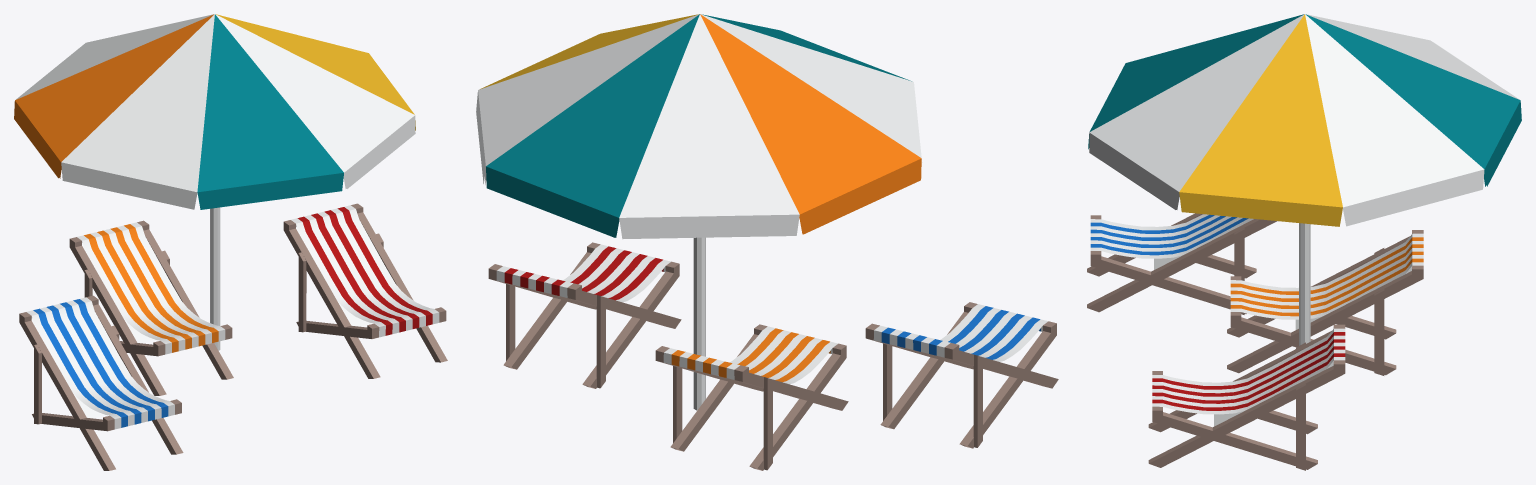
File: M_yizi02.FBX
3 renders of one model, left to right at view 1: azimuth 30°, elevation 25°; view 2: azimuth 150°, elevation 25°; view 3: azimuth 270°, elevation 25°, orthographic. The views are drawn at different scales.
Visible parts, largest first — view 1: M_yizi02_buliao01, M_yizi02_ganzi01; view 2: M_yizi02_buliao01, M_yizi02_ganzi01; view 3: M_yizi02_buliao01, M_yizi02_ganzi01.
Part boxes in pixels (box(x1,y1,x2,y2)): M_yizi02_buliao01: box(14, 14, 447, 470); M_yizi02_ganzi01: box(210, 207, 220, 350); M_yizi02_buliao01: box(476, 14, 1058, 470); M_yizi02_ganzi01: box(693, 237, 705, 410); M_yizi02_buliao01: box(1087, 14, 1521, 470); M_yizi02_ganzi01: box(1299, 223, 1310, 345).
Bounding box in the file's own units: 5.49 × 4.68 × 4.98.
